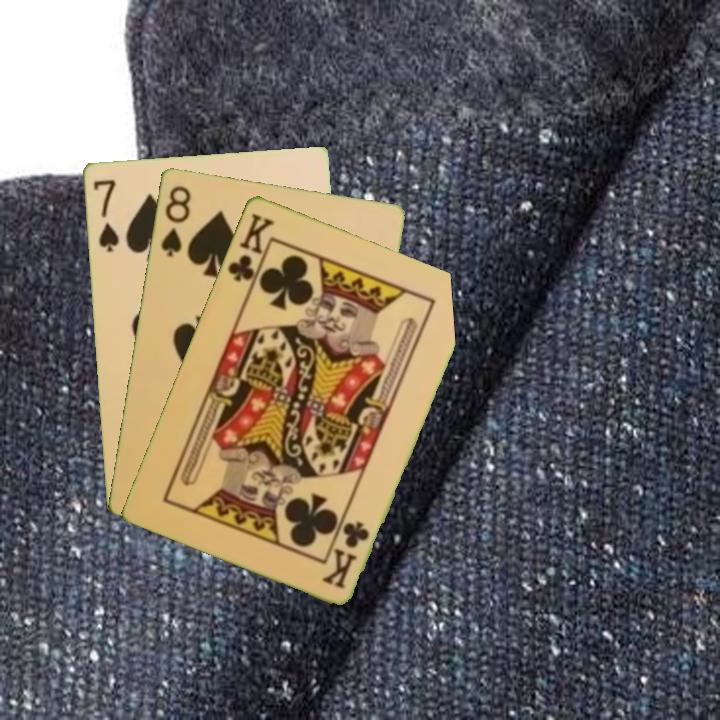7s: (90, 175, 121, 255)
8s: (157, 182, 194, 259)
Kc: (224, 209, 278, 292), (319, 517, 372, 591)
